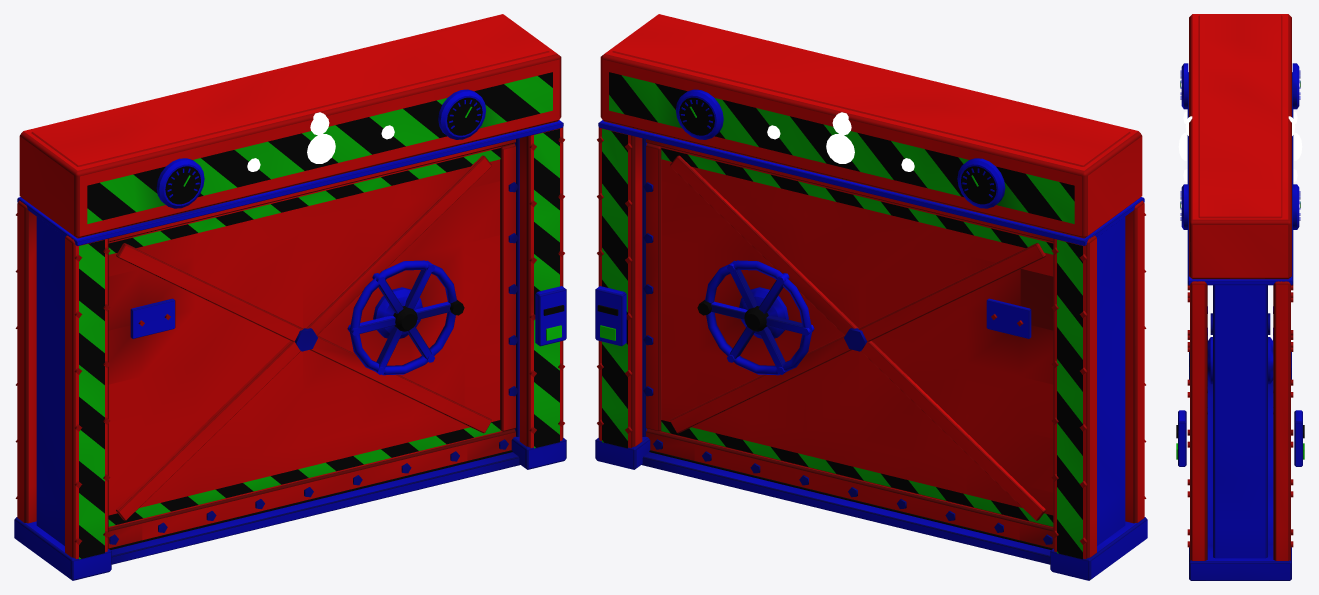
File: puertas_hatch.glb
3 views of the same model, side by side, from view 1: azimuth 30°, elevation 25°; view 2: azimuth 150°, elevation 25°; view 3: azimuth 270°, elevation 25° (orthographic). The views are drawn at different scales.
Parts seen in each view (by area): view 1: pd_hatch__losa, pd_hatch__marco, pd_shutter__marco, pd_hatch__rueda, pd_hatch__lector, pd_hatch__luz; view 2: pd_hatch__losa, pd_hatch__marco, pd_shutter__marco, pd_hatch__rueda, pd_hatch__lector, pd_hatch__luz; view 3: pd_shutter__marco, pd_hatch__marco, pd_hatch__lector, pd_hatch__losa, pd_hatch__luz.
Boxes of the visible parts, x1,y1,x2,y2 form: pd_hatch__losa: [108, 139, 518, 548]; pd_hatch__marco: [14, 14, 566, 580]; pd_shutter__marco: [31, 17, 549, 545]; pd_hatch__rueda: [347, 260, 464, 375]; pd_hatch__lector: [535, 286, 566, 346]; pd_hatch__luz: [247, 125, 394, 171]; pd_hatch__losa: [643, 139, 1053, 548]; pd_hatch__marco: [595, 14, 1147, 580]; pd_shutter__marco: [612, 17, 1130, 545]; pd_hatch__rueda: [697, 260, 814, 375]; pd_hatch__lector: [595, 286, 626, 346]; pd_hatch__luz: [767, 125, 914, 171]; pd_shutter__marco: [1198, 15, 1282, 558]; pd_hatch__marco: [1180, 14, 1300, 580]; pd_hatch__lector: [1176, 410, 1304, 466]; pd_hatch__losa: [1207, 313, 1273, 384]; pd_hatch__luz: [1178, 111, 1302, 181].
Bounding box in the file's own units: 4.58 × 3.63 × 1.17.
